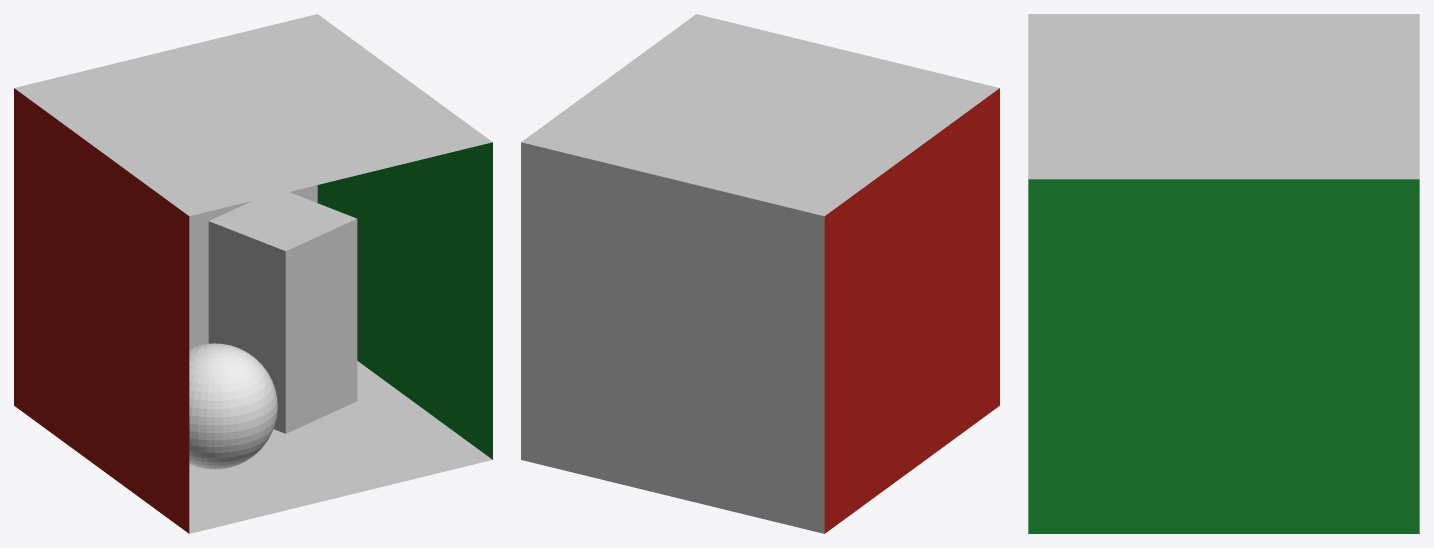
The model's file is CornellGlossy.glb.
3 renders of one model, left to right at view 1: azimuth 30°, elevation 25°; view 2: azimuth 150°, elevation 25°; view 3: azimuth 270°, elevation 25°, orthographic. The views are drawn at different scales.
Size of the model in its own units: 2 by 2 by 2.
1 material, 1 textured.
